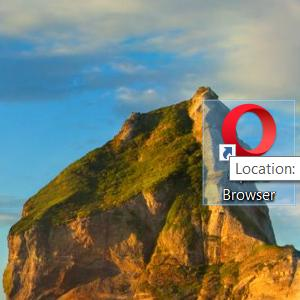opera: (219, 103, 277, 162)
